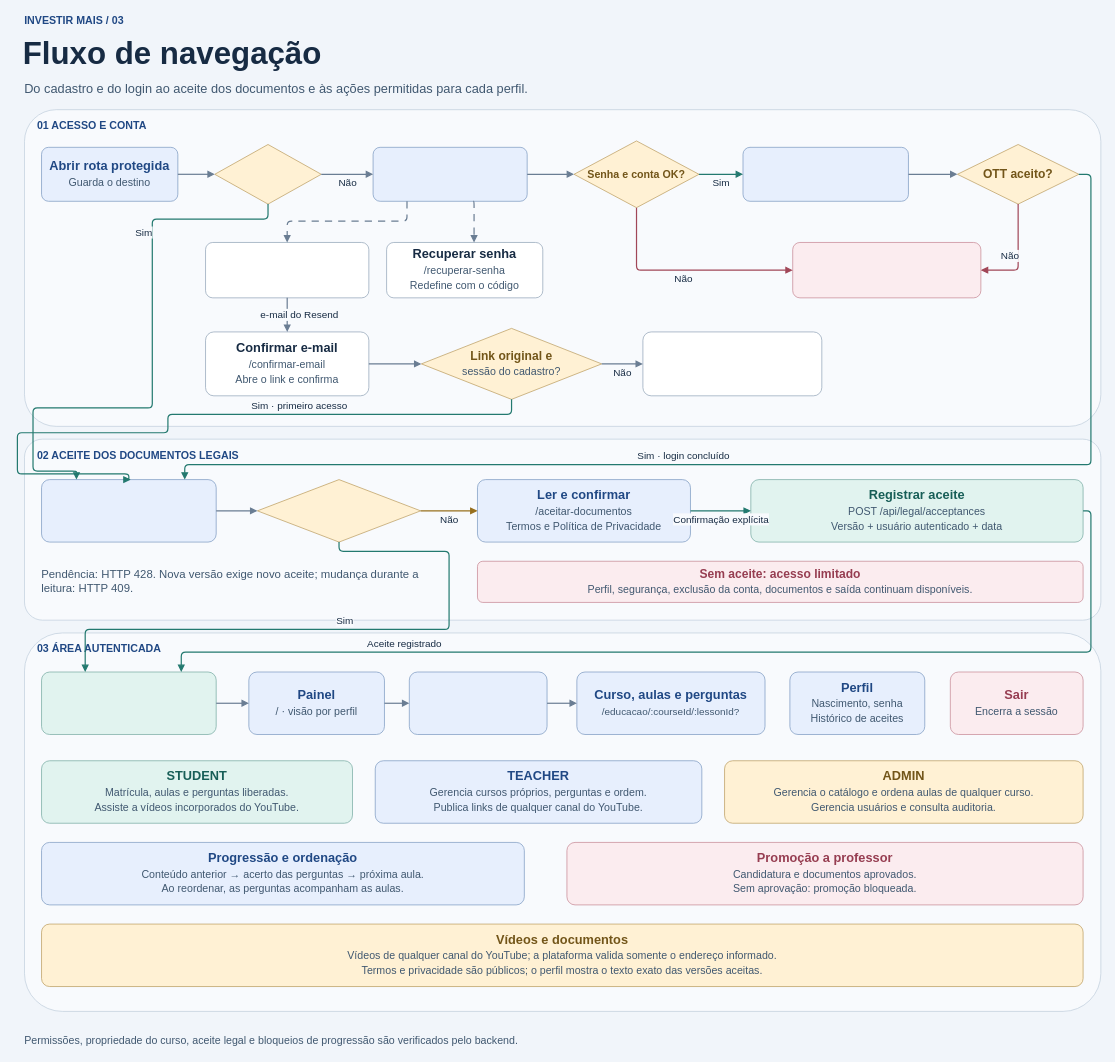
Some shapes in this 1115 by 1062 pixel diagram are drawn without their labels. Each missing label, with the centre of its shape:
Abrir destino autorizado Rota interna ou painel padrão: the point at 128,702
Acesso recusado Exibe erro e permite nova tentativa: the point at 886,270
Cadastrar conta /cadastro · aluno Data de nascimento: the point at 287,270
Catálogo /educacao: the point at 478,702
Confirmar acesso Link ou código OTT: the point at 825,174
Consultar aceite GET /api/legal/status: the point at 128,510
Conta confirmada Pode seguir para /entrar: the point at 732,363
Entrar /entrar · e-mail e senha: the point at 449,174
Sessão completa?: the point at 267,174
Versão atual aceita?: the point at 339,510
